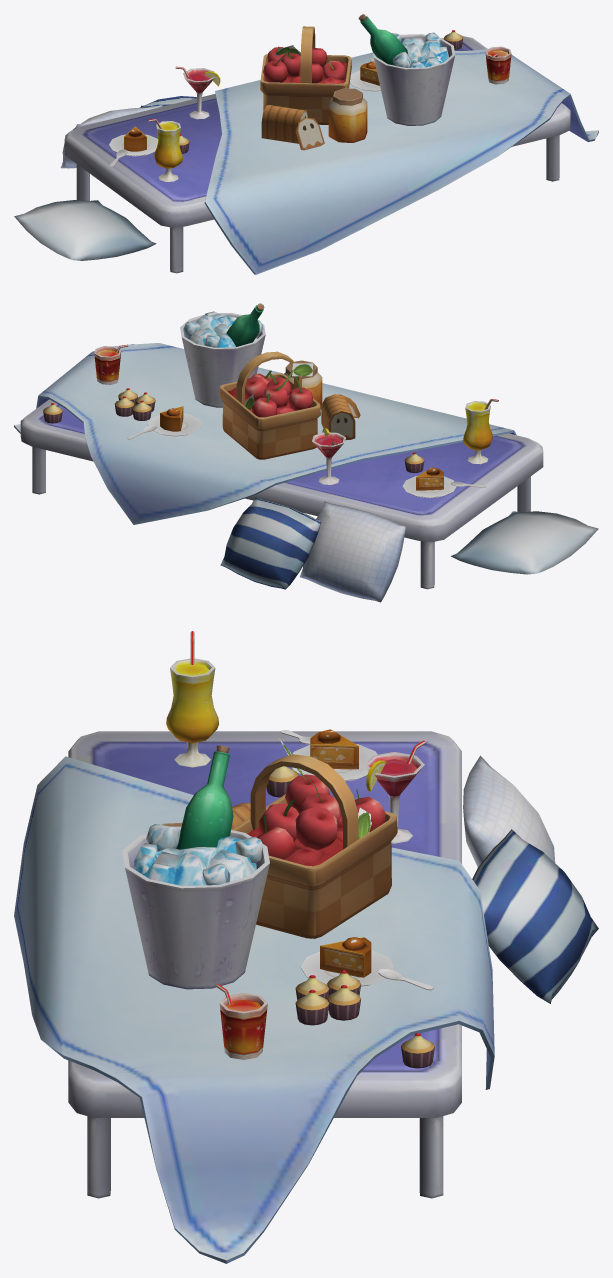
Rendered from furn_se2021_table_001.gltf.
3 renders of one model, top to bottom at view 1: azimuth 30°, elevation 25°; view 2: azimuth 150°, elevation 25°; view 3: azimuth 270°, elevation 25°, orthographic. The views are drawn at different scales.
Visible parts, largest first — view 1: se2021_table_001; view 2: se2021_table_001; view 3: se2021_table_001.
Boxes of the visible parts, x1,y1,x2,y2 form: se2021_table_001: (14, 14, 598, 274); se2021_table_001: (14, 303, 598, 602); se2021_table_001: (14, 631, 598, 1263).
Bounding box in the file's own units: 1.78 × 0.5521 × 0.9251.
Materials: 2 (2 with a texture image).
